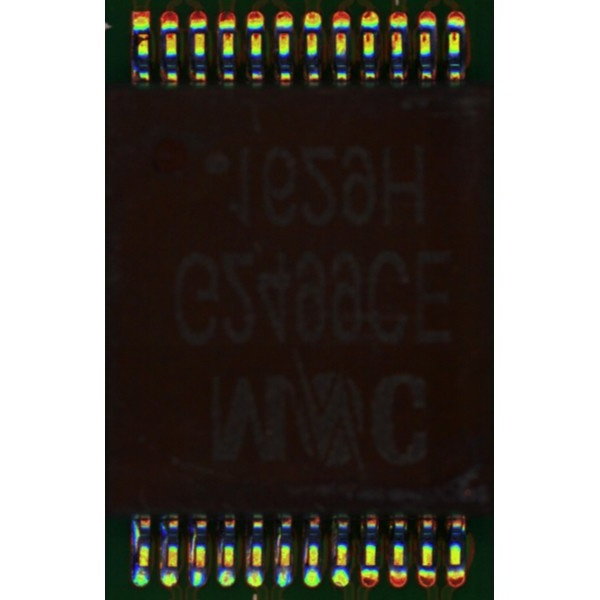Bad_qiaojiao: (274, 529, 280, 567), (190, 531, 196, 567), (217, 538, 223, 567), (303, 538, 308, 566), (246, 538, 251, 566)
